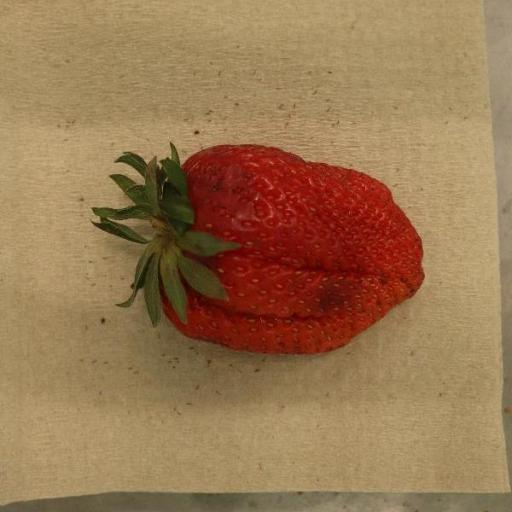Strawberry: (91, 143, 425, 355)
